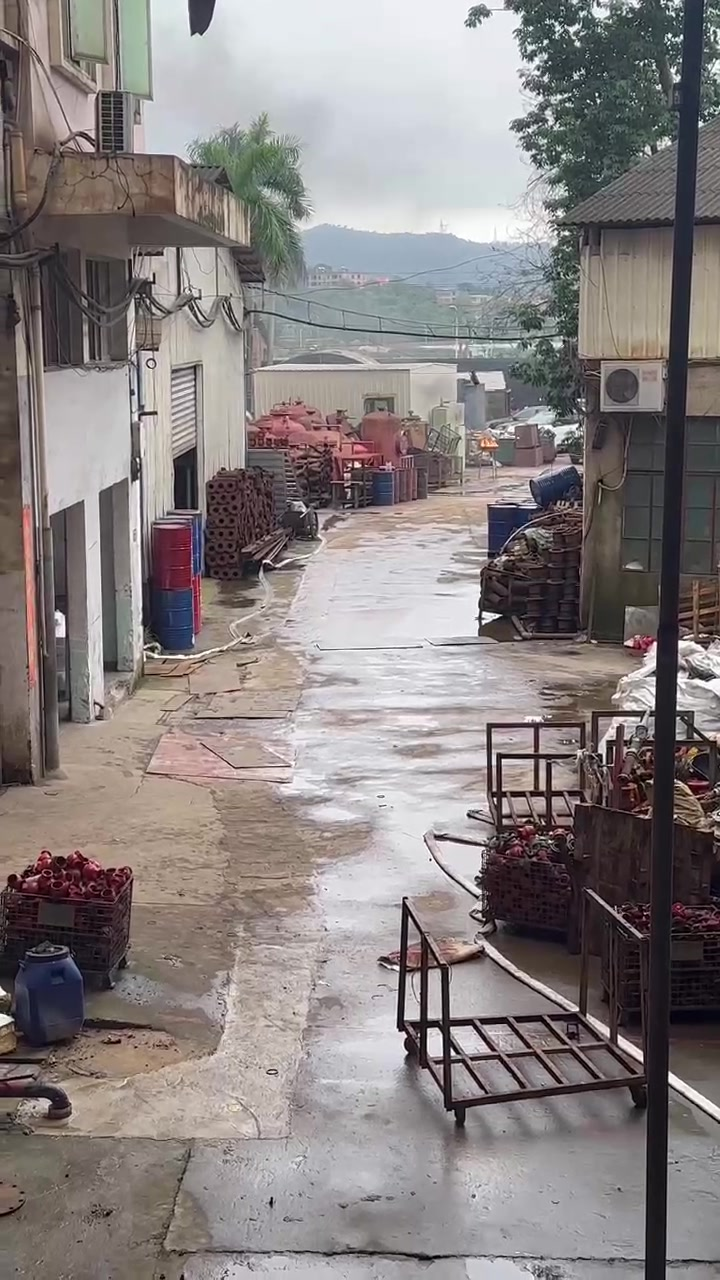fire: (480, 437, 496, 447)
